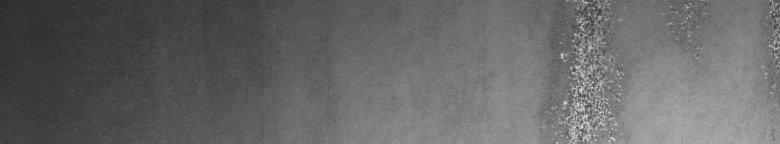hc: (543, 4, 704, 136)
